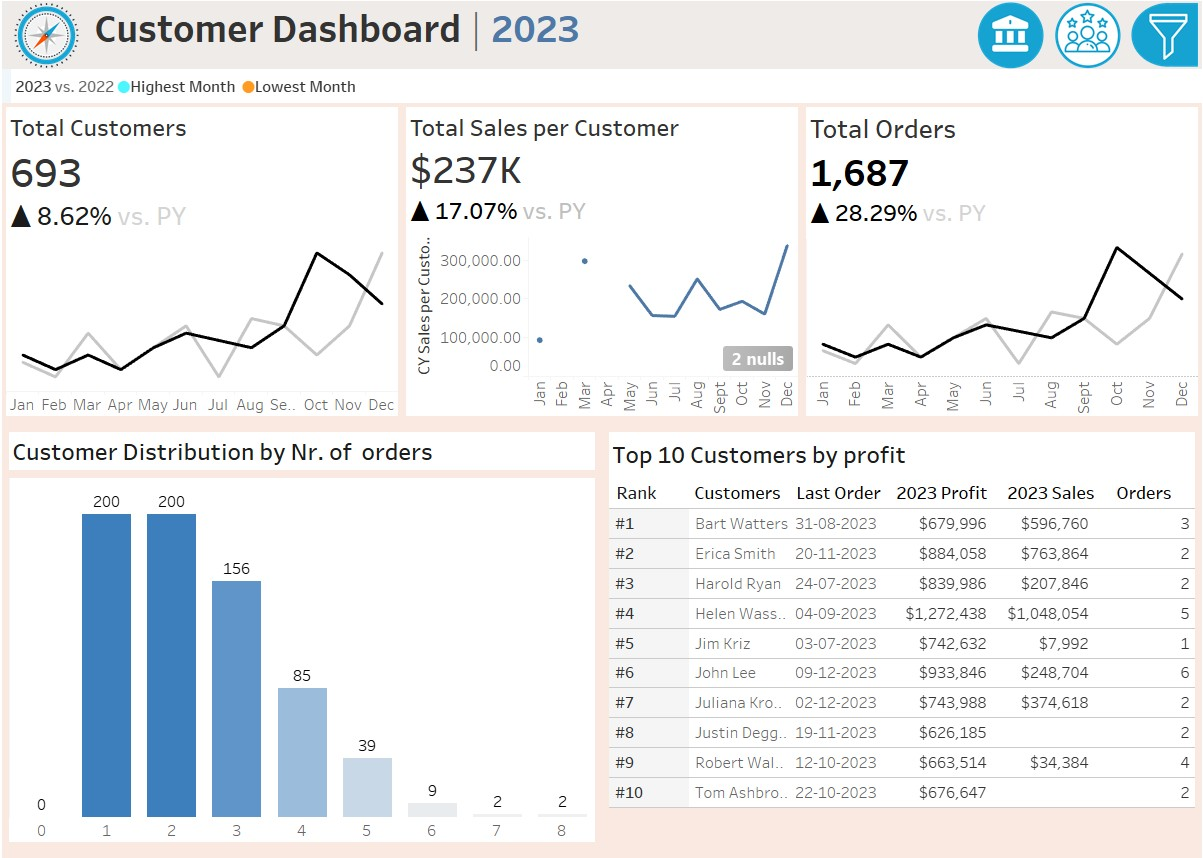

The page's visual inventory and layout, read from the dashboard file:
{"tool":"tableau","page":{"name":"Customer Dashboard","canvas":[1000,1000],"units":"permille","ordinal":0},"visuals":[{"type":"image","param":"Image/Icon - Logo.png","box":[0,0,74.2,78.5]},{"type":"text","box":[74.2,0,732.5,60.5]},{"type":"dashboard-object","box":[806.7,0,66.7,78.5]},{"type":"dashboard-object","box":[873.3,0,62.5,78.5]},{"type":"dashboard-object","box":[935.8,0,64.2,78.5]},{"type":"worksheet","title":"Legend KPI","mark":"Automatic","box":[0,78.5,1000,39.9]},{"type":"text","box":[765.8,87.3,230.8,46.5]},{"type":"worksheet","title":"Total Customers","mark":"Automatic","cols":["Order Date"],"box":[0,118.6,333.3,368.6]},{"type":"worksheet","title":"Total sales per customer","mark":"Automatic","rows":["Calculation_1548393849289961472"],"cols":["Order Date"],"box":[333.3,118.6,333.3,368.6]},{"type":"worksheet","title":"Total Orders","mark":"Automatic","cols":["Order Date"],"box":[666.7,118.6,333.3,368.6]},{"type":"parameter","param":"[Parameters].[Parameter 1]","box":[765.8,133.8,230.8,84.9]},{"type":"blank","box":[765.8,218.7,230.8,36]},{"type":"text","box":[765.8,254.7,230.8,50]},{"type":"filter","title":"Legend KPI","param":"[federated.1hs0wlf1d74wcv13tm1j41uekbno].[none:Category:nk]","box":[765.8,304.7,230.8,70.9]},{"type":"filter","title":"Legend KPI","param":"[federated.1hs0wlf1d74wcv13tm1j41uekbno].[none:Sub-Category:nk]","box":[765.8,375.6,230.8,93]},{"type":"text","box":[765.8,468.7,230.8,41.9]},{"type":"text","box":[5.8,495.4,488.3,50]},{"type":"text","box":[505.8,495.4,488.3,57]},{"type":"filter","title":"Legend KPI","param":"[federated.1hs0wlf1d74wcv13tm1j41uekbno].[none:Region:nk]","box":[765.8,510.5,230.8,70.9]},{"type":"text","box":[505.8,552.3,65,37.2]},{"type":"text","box":[570.8,552.3,85,37.2]},{"type":"text","box":[655.8,552.3,83.3,37.2]},{"type":"text","box":[739.2,552.3,92.5,37.2]},{"type":"text","box":[831.7,552.3,90.8,37.2]},{"type":"text","box":[922.5,552.3,71.7,37.2]},{"type":"worksheet","title":"customer distribution","mark":"Bar","rows":["Calculation_1525594376134377473"],"cols":["Calculation_1548393849293164545"],"box":[5.8,554.3,488.3,423.6]},{"type":"filter","title":"Legend KPI","param":"[federated.1hs0wlf1d74wcv13tm1j41uekbno].[none:State:nk]","box":[765.8,581.5,230.8,70.9]},{"type":"worksheet","title":"table","mark":"Automatic","rows":["Calculation_1382042138398904330","Customer Name","Order Date"],"box":[505.8,589.5,488.3,348.8]},{"type":"filter","title":"Legend KPI","param":"[federated.1hs0wlf1d74wcv13tm1j41uekbno].[none:City:nk]","box":[765.8,652.4,230.8,70.9]}]}

Visuals, with their boxes on the dashboard's canvas, which has no fixed pixel size, in thousandths of its width and height (x1, y1, x2, y2). These are canvas units, not pixel positions in the 1203x858 screenshot, which may show the page scaled, cropped or inside an application window:
image: crop(0, 0, 74, 78)
text: crop(74, 0, 807, 60)
dashboard-object: crop(807, 0, 873, 78)
dashboard-object: crop(873, 0, 936, 78)
dashboard-object: crop(936, 0, 1000, 78)
"Legend KPI" worksheet: crop(0, 78, 1000, 118)
text: crop(766, 87, 997, 134)
"Total Customers" worksheet: crop(0, 119, 333, 487)
"Total sales per customer" worksheet: crop(333, 119, 667, 487)
"Total Orders" worksheet: crop(667, 119, 1000, 487)
parameter: crop(766, 134, 997, 219)
blank: crop(766, 219, 997, 255)
text: crop(766, 255, 997, 305)
"Legend KPI" filter: crop(766, 305, 997, 376)
"Legend KPI" filter: crop(766, 376, 997, 469)
text: crop(766, 469, 997, 511)
text: crop(6, 495, 494, 545)
text: crop(506, 495, 994, 552)
"Legend KPI" filter: crop(766, 510, 997, 581)
text: crop(506, 552, 571, 590)
text: crop(571, 552, 656, 590)
text: crop(656, 552, 739, 590)
text: crop(739, 552, 832, 590)
text: crop(832, 552, 922, 590)
text: crop(922, 552, 994, 590)
"customer distribution" worksheet (Bar marks): crop(6, 554, 494, 978)
"Legend KPI" filter: crop(766, 582, 997, 652)
"table" worksheet: crop(506, 590, 994, 938)
"Legend KPI" filter: crop(766, 652, 997, 723)
